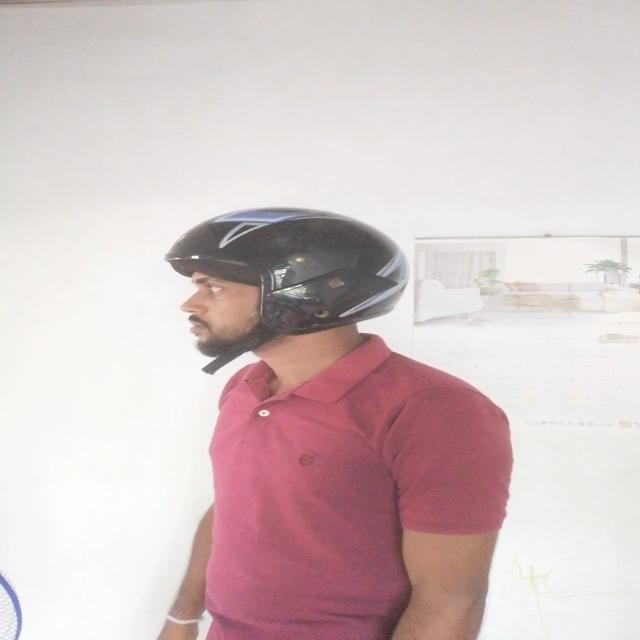Helmet_Wearer: (148, 200, 409, 388)
